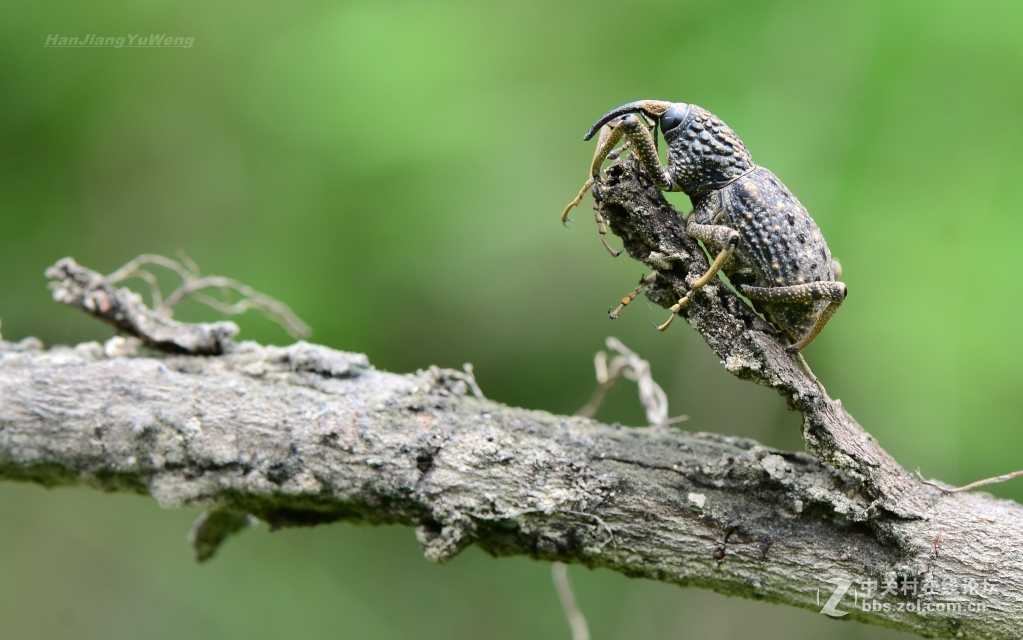Curculionidae: (560, 98, 848, 401)
